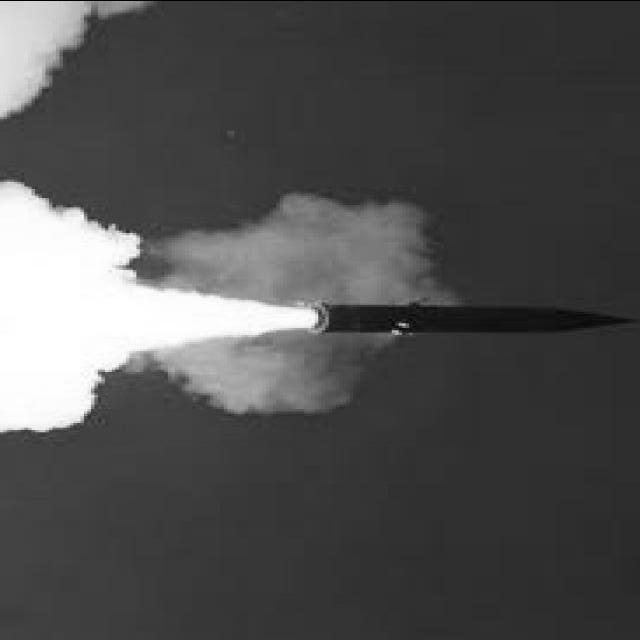missile: (306, 296, 631, 342)
